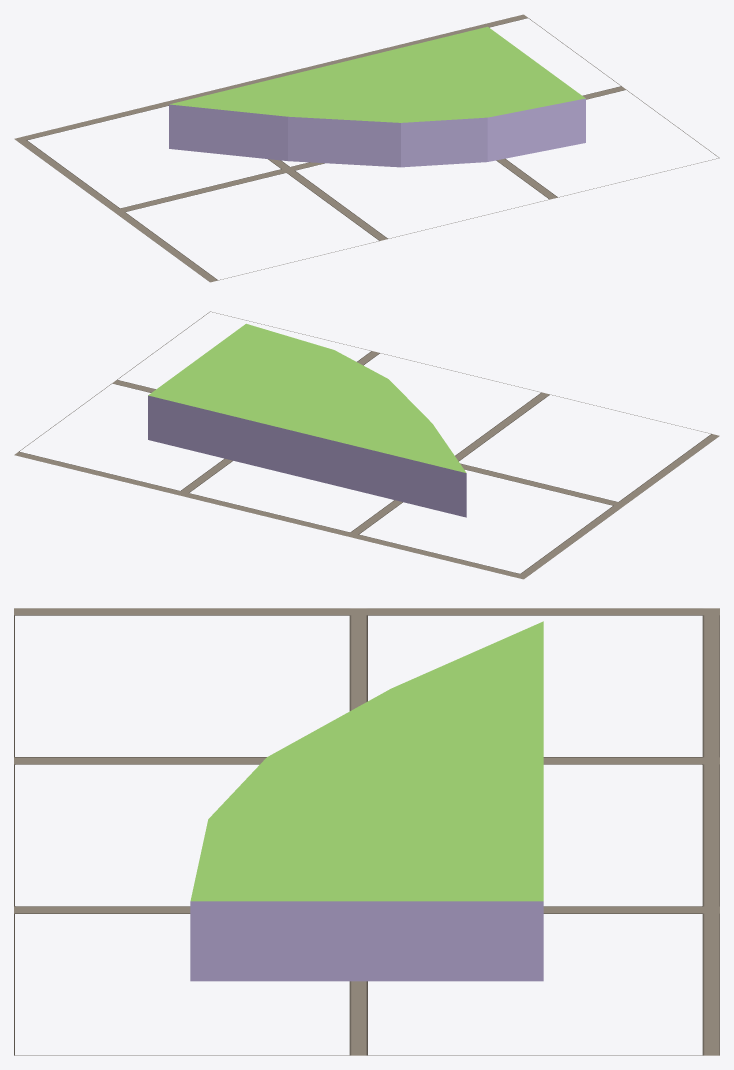
Rendered from Tiered_Grass_45_Degrees_Curve_Inner_Outside_1x2.glb.
The picture shows the model from 3 angles, top to bottom: view 1: azimuth 30°, elevation 25°; view 2: azimuth 150°, elevation 25°; view 3: azimuth 270°, elevation 25°; orthographic projection. The views are drawn at different scales.
Parts seen in each view (by area): view 1: Tiered_Grass_45_Degrees_Curve_Inner_Outside_1x2, Floor; view 2: Tiered_Grass_45_Degrees_Curve_Inner_Outside_1x2, Floor; view 3: Tiered_Grass_45_Degrees_Curve_Inner_Outside_1x2, Floor.
Part boxes in pixels (x1,y1,x2,y2): Tiered_Grass_45_Degrees_Curve_Inner_Outside_1x2: (169,26,585,167); Floor: (14,14,719,282); Tiered_Grass_45_Degrees_Curve_Inner_Outside_1x2: (148,323,466,517); Floor: (14,311,719,579); Tiered_Grass_45_Degrees_Curve_Inner_Outside_1x2: (190,621,543,981); Floor: (14,608,719,1055).
Size of the model in its own units: 300 by 25 by 200.
Materials: 4 (1 with a texture image).
